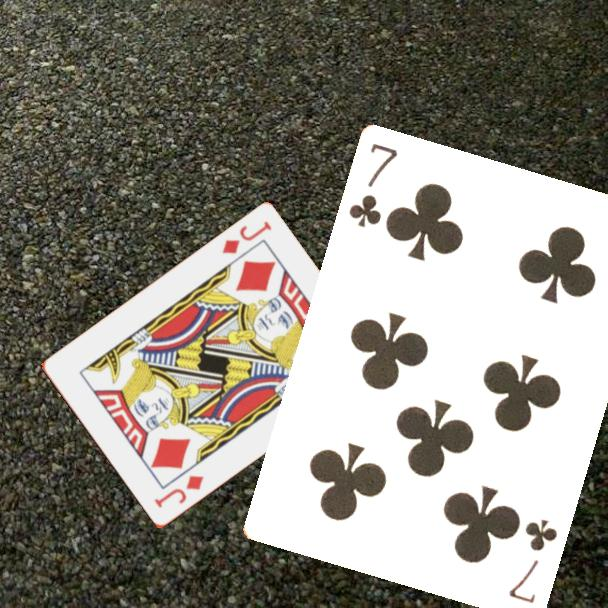c07: (345, 140, 401, 232), (505, 516, 561, 607)
d11: (150, 472, 207, 511), (218, 218, 275, 257)
